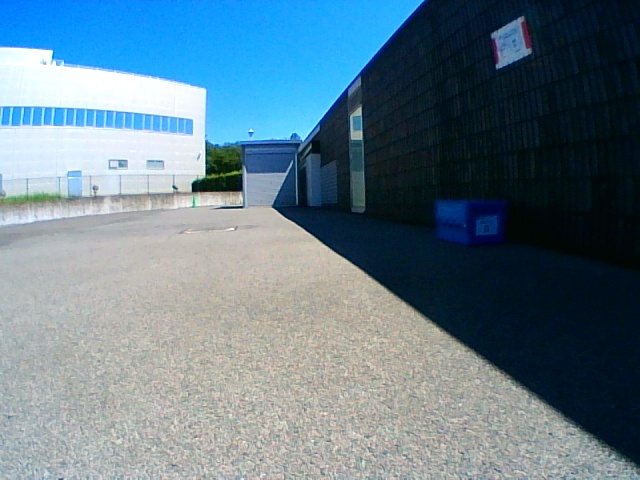blue_box: (437, 201, 505, 244)
tag: (478, 218, 495, 233)
